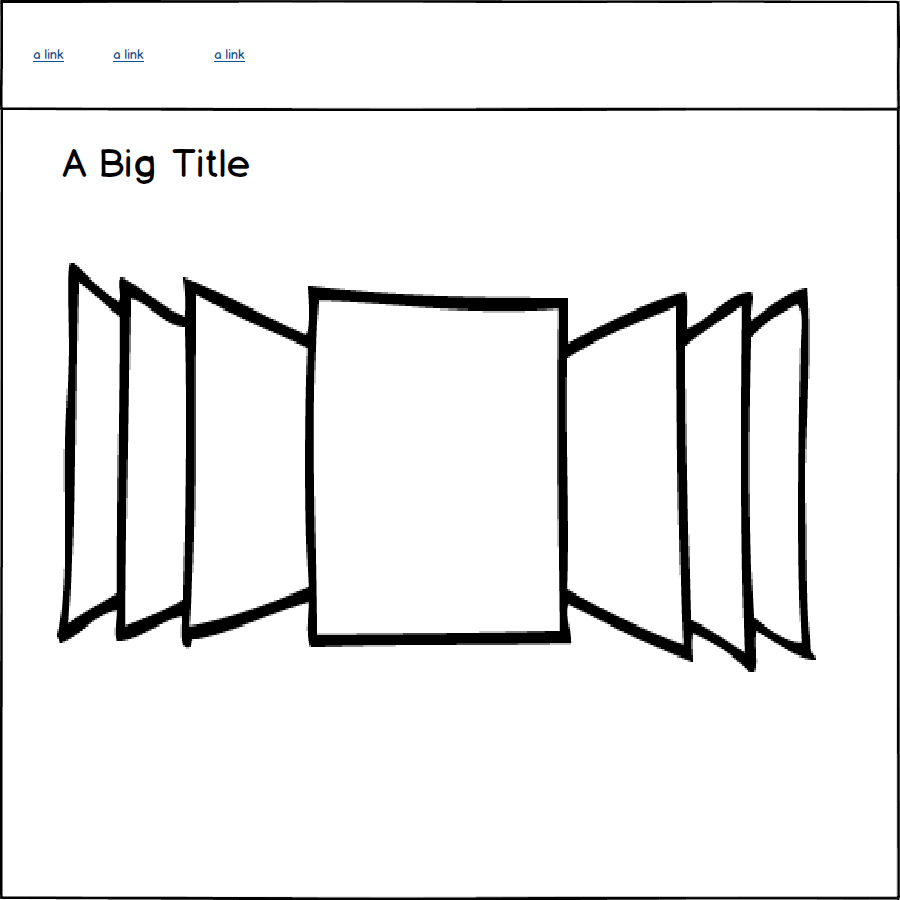h1: (61, 129, 259, 191)
navlink: (204, 40, 264, 70), (107, 41, 152, 70), (30, 44, 70, 66)
slideshow: (48, 256, 831, 685)
